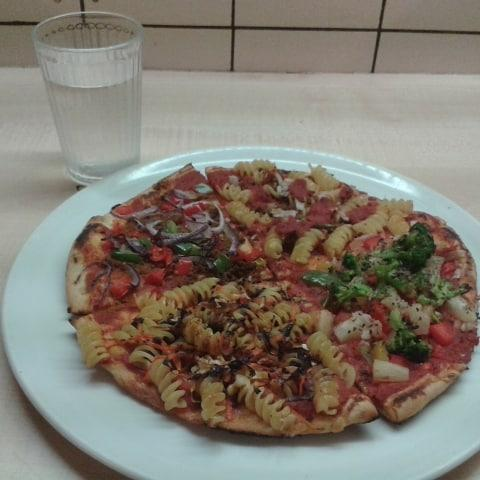Broccoli: (381, 270, 449, 305), (382, 224, 435, 267), (310, 270, 369, 305), (385, 320, 431, 363)
Onion: (148, 223, 214, 245), (184, 200, 225, 232), (219, 221, 241, 259), (111, 205, 160, 221), (122, 261, 143, 289)
Pizza: (75, 161, 475, 437)
Tomatoes: (150, 245, 174, 268), (175, 256, 195, 277), (147, 268, 167, 286)
